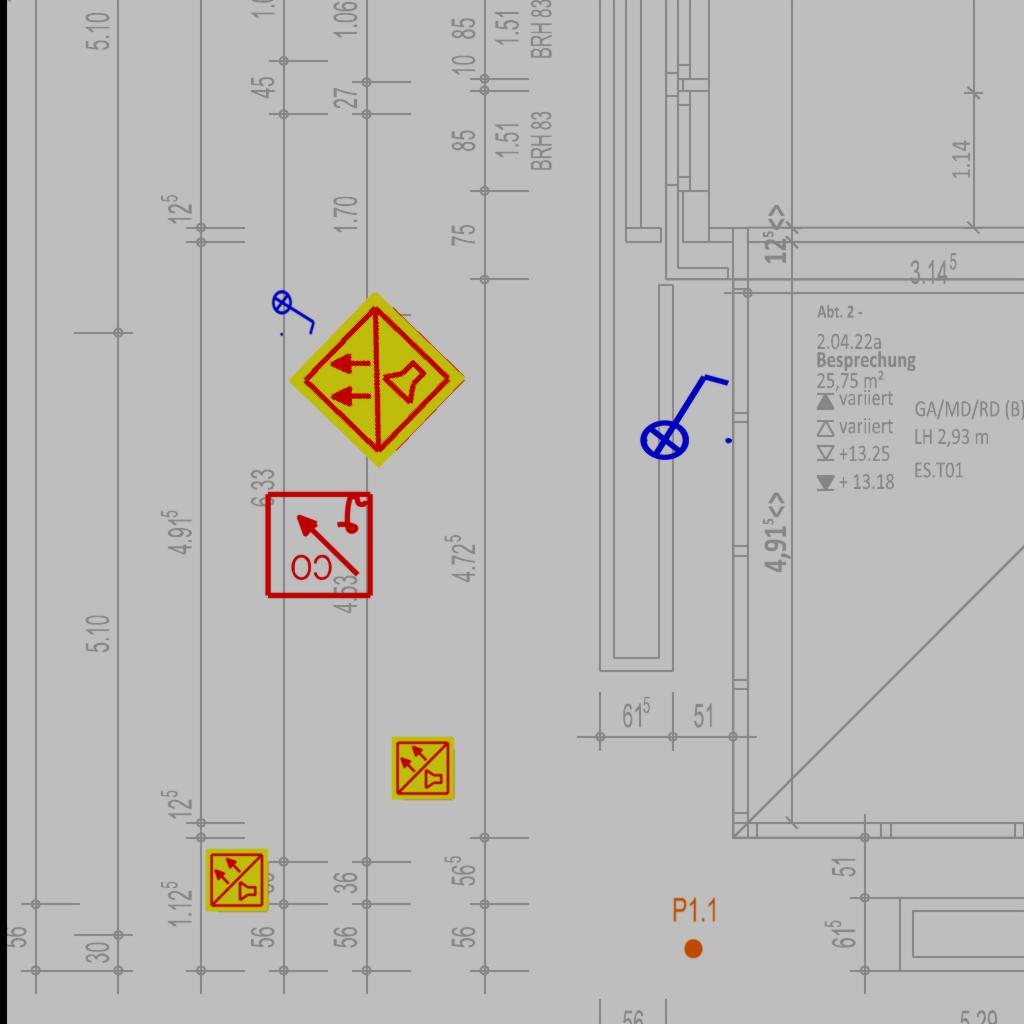Ausschalter_beleuchtet: (626, 366, 738, 462), (271, 283, 319, 339)
Downlight_LED_Einbauleuchten_Flur: (672, 896, 718, 960)
OKW_Multisensormelder_(Kombination_optischer_Rauch-Kahlenmonoxid_Waerme-Melder): (283, 285, 471, 473), (390, 735, 456, 801), (204, 847, 270, 913)
ROA_Rauchmelder_optisch_mit_Signalgeber_(Sockelsirene): (262, 487, 375, 600)
